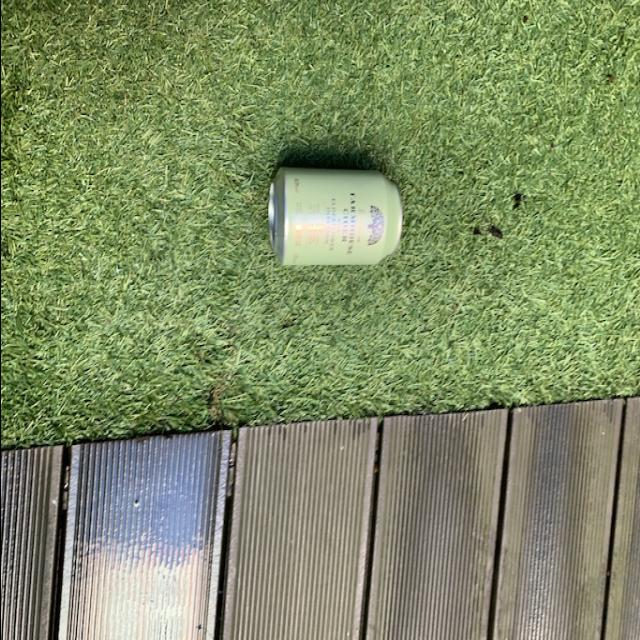Aluminum Can: (272, 164, 404, 268)
